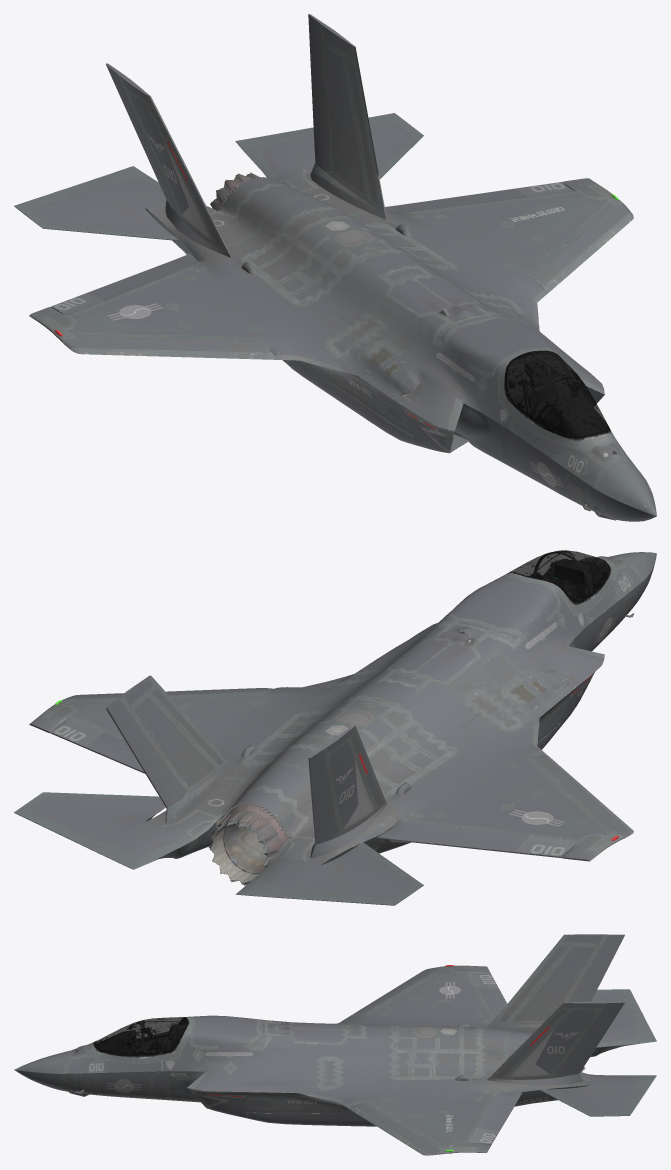
3 renders of one model, top to bottom at view 1: azimuth 30°, elevation 25°; view 2: azimuth 150°, elevation 25°; view 3: azimuth 270°, elevation 25°, orthographic. The views are drawn at different scales.
Visible parts, largest first — view 1: abv_3, blw_2, cnp_0, cpt_1; view 2: abv_3, blw_2, cnp_0, cpt_1; view 3: abv_3, blw_2, cnp_0, cpt_1.
Part boxes in pixels (box(x1,y1,x2,y2)): abv_3: box(29, 14, 656, 516); blw_2: box(14, 113, 656, 521); cnp_0: box(504, 350, 611, 441); cpt_1: box(507, 354, 606, 436); abv_3: box(29, 552, 656, 863); blw_2: box(14, 559, 655, 905); cnp_0: box(507, 550, 611, 606); cpt_1: box(530, 559, 608, 600); abv_3: box(14, 934, 624, 1155); blw_2: box(14, 989, 656, 1126); cnp_0: box(92, 1017, 189, 1058); cpt_1: box(96, 1023, 187, 1054).
Size of the model in its own units: 10.73 by 3.66 by 15.62.
Materials: 6 (6 with a texture image).
